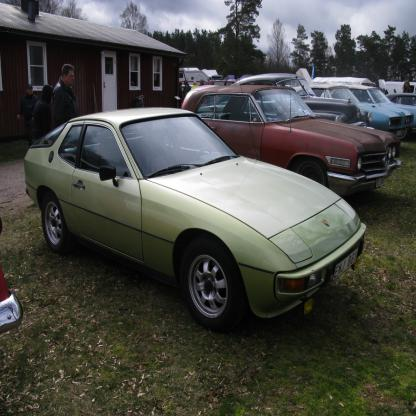Car: (21, 60, 416, 336)
